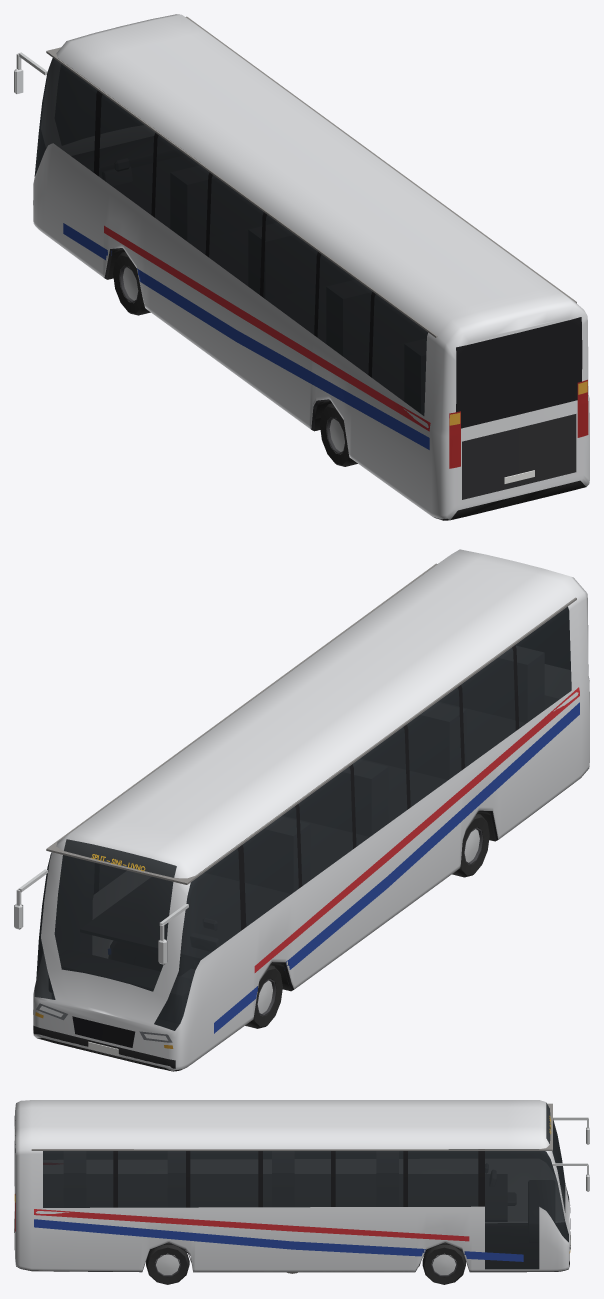
Rendered from coach_lod1.glb.
3 views of the same model, one above another, from view 1: azimuth 30°, elevation 25°; view 2: azimuth 150°, elevation 25°; view 3: azimuth 270°, elevation 25° (orthographic). The views are drawn at different scales.
Visible parts, largest first — view 1: body, wheelmesh_0, wheelmesh_2; view 2: body, wheelmesh_2, wheelmesh_0; view 3: body, wheelmesh_3, wheelmesh_1.
Part boxes in pixels (bbox=[...]): body: bbox=[14, 14, 589, 520]; wheelmesh_0: bbox=[113, 252, 150, 315]; wheelmesh_2: bbox=[320, 403, 357, 466]; body: bbox=[14, 549, 589, 1071]; wheelmesh_2: bbox=[452, 814, 489, 877]; wheelmesh_0: bbox=[245, 965, 282, 1028]; body: bbox=[14, 1100, 589, 1273]; wheelmesh_3: bbox=[146, 1243, 189, 1284]; wheelmesh_1: bbox=[422, 1243, 465, 1284].
Bounding box in the file's own units: 2.59 × 3.81 × 12.71.
